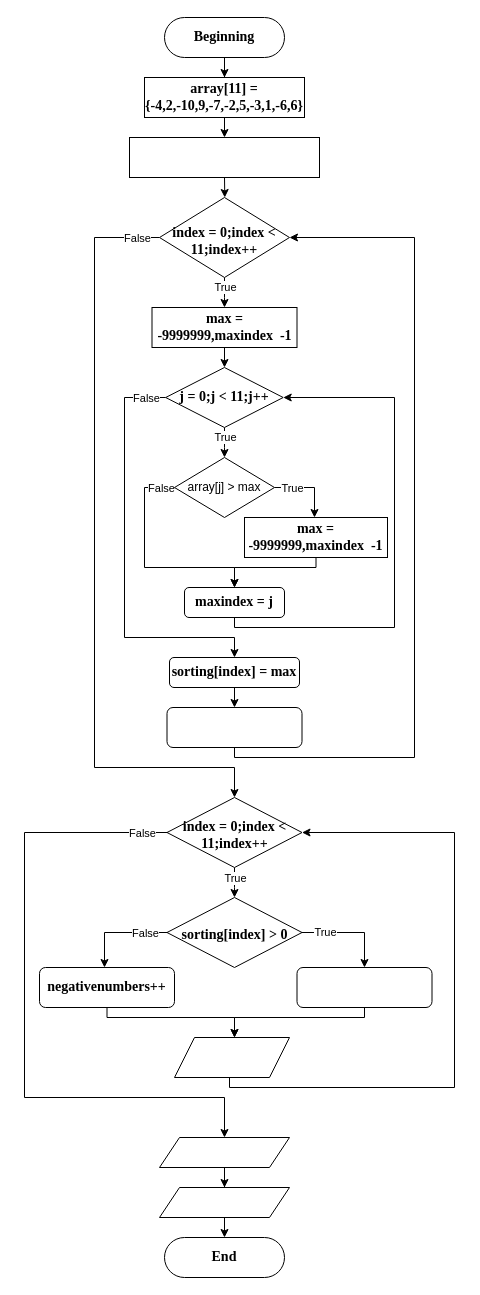
This 480x1295 diagram has some shape labels left out. The centre of each missing label's shape, as x and y in pixels:
"array[maxindex] = -99999999" goes at point 234,727.
"negativenumbers" goes at point 224,1202.
"positivenumbers" goes at point 224,1152.
"positivenumbers++" goes at point 364,987.
"sorting[11],negativenumbers = 0,positivenumbers = 0" goes at point 224,157.
"sorting[index]" goes at point 232,1057.
